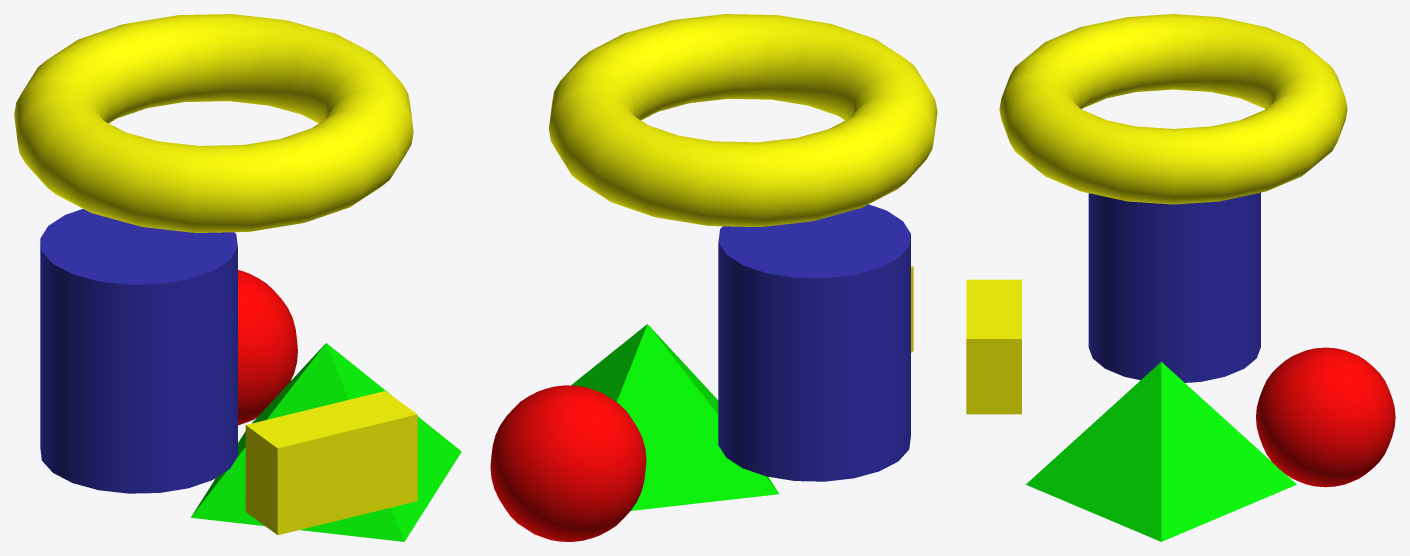
File: simples.obj
3 views of the same model, side by side, from view 1: azimuth 30°, elevation 25°; view 2: azimuth 150°, elevation 25°; view 3: azimuth 270°, elevation 25° (orthographic). The views are drawn at different scales.
Visible parts, largest first — view 1: pTorus1, pCylinder1, pCube1, pPyramid1, pSphere1; view 2: pTorus1, pCylinder1, pSphere1, pPyramid1; view 3: pTorus1, pCylinder1, pPyramid1, pSphere1, pCube1.
Boxes of the visible parts, x1=… form: pTorus1: x1=14, y1=14, x2=413, y2=232; pCylinder1: x1=40, y1=209, x2=237, y2=493; pCube1: x1=245, y1=391, x2=417, y2=534; pPyramid1: x1=191, y1=343, x2=461, y2=541; pSphere1: x1=238, y1=270, x2=297, y2=425; pTorus1: x1=549, y1=14, x2=937, y2=226; pCylinder1: x1=718, y1=204, x2=910, y2=481; pSphere1: x1=490, y1=385, x2=646, y2=541; pPyramid1: x1=571, y1=324, x2=778, y2=510; pTorus1: x1=999, y1=14, x2=1347, y2=204; pCylinder1: x1=1088, y1=192, x2=1260, y2=382; pPyramid1: x1=1026, y1=361, x2=1296, y2=541; pSphere1: x1=1256, y1=347, x2=1395, y2=487; pCube1: x1=966, y1=279, x2=1021, y2=414.
Bounding box in the file's own units: 5.45 × 5.32 × 5.63.
